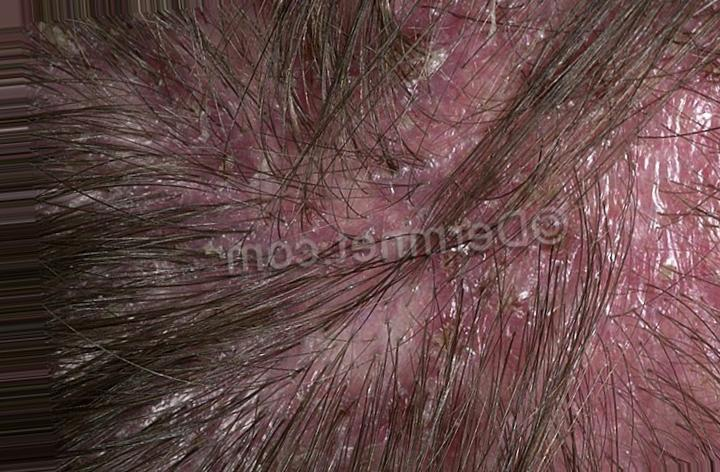Folliculitis: (280, 34, 670, 368)
